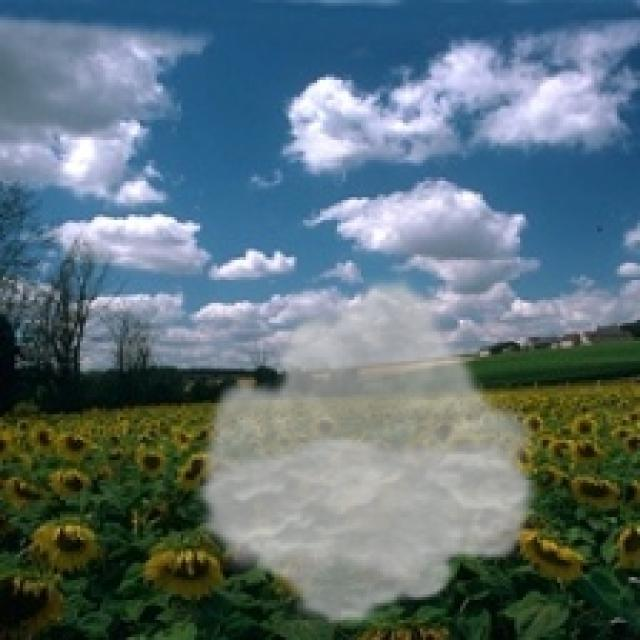Smoke: (188, 272, 546, 628)
